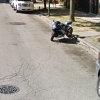Motorcycle: (33, 17, 80, 42)
